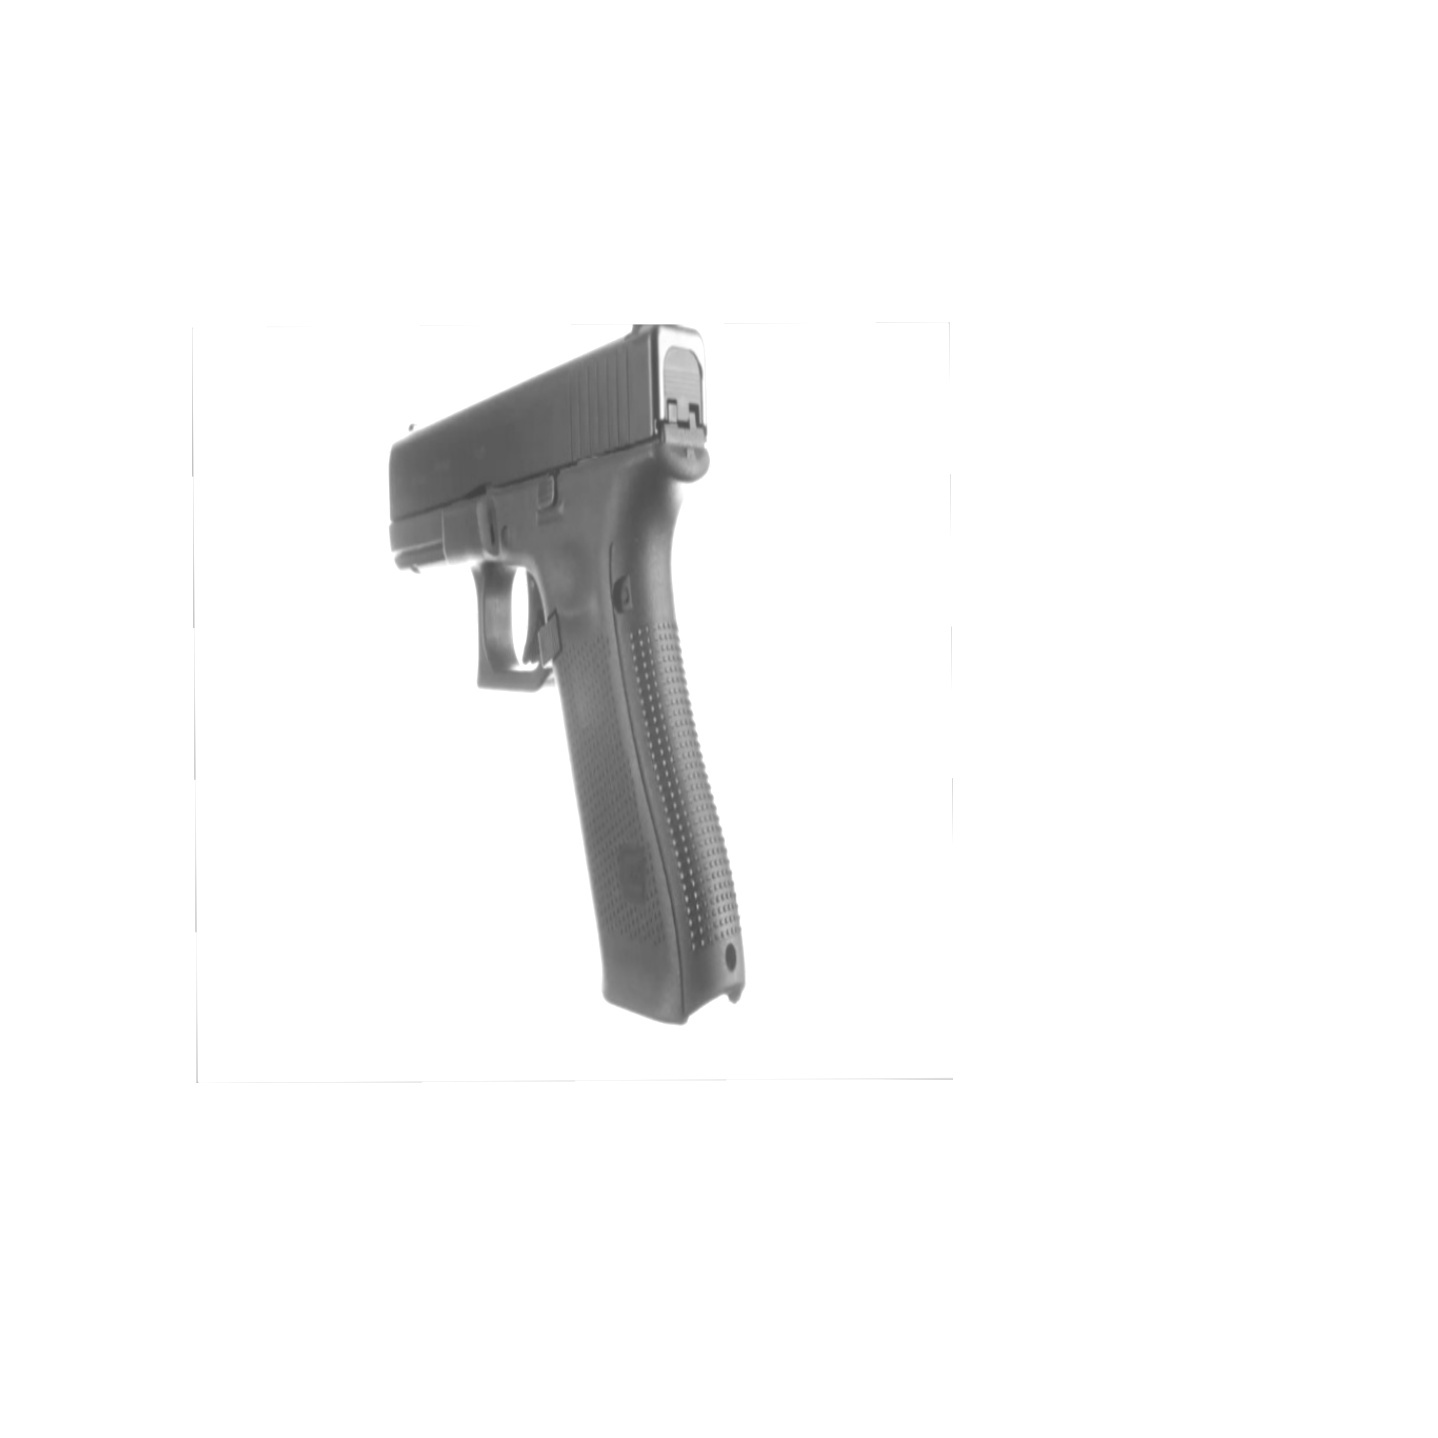gun: (361, 319, 785, 1028)
